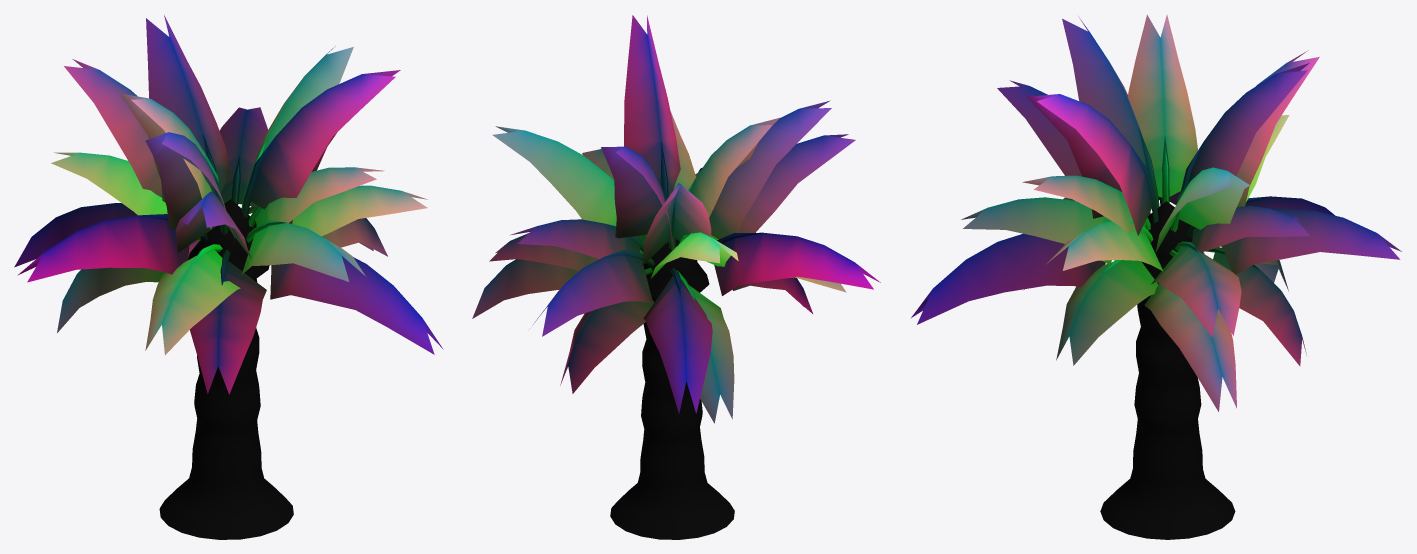
The model's file is M_Palm_2_7.fbx.
3 renders of one model, left to right at view 1: azimuth 30°, elevation 25°; view 2: azimuth 150°, elevation 25°; view 3: azimuth 270°, elevation 25°, orthographic. The views are drawn at different scales.
Parts seen in each view (by area): view 1: Palm_2_7; view 2: Palm_2_7; view 3: Palm_2_7.
Boxes of the visible parts, <box> form: Palm_2_7: <box>14,15,443,539</box>; Palm_2_7: <box>472,15,880,539</box>; Palm_2_7: <box>911,14,1401,539</box>.
Size of the model in its own units: 582 by 643 by 619.
